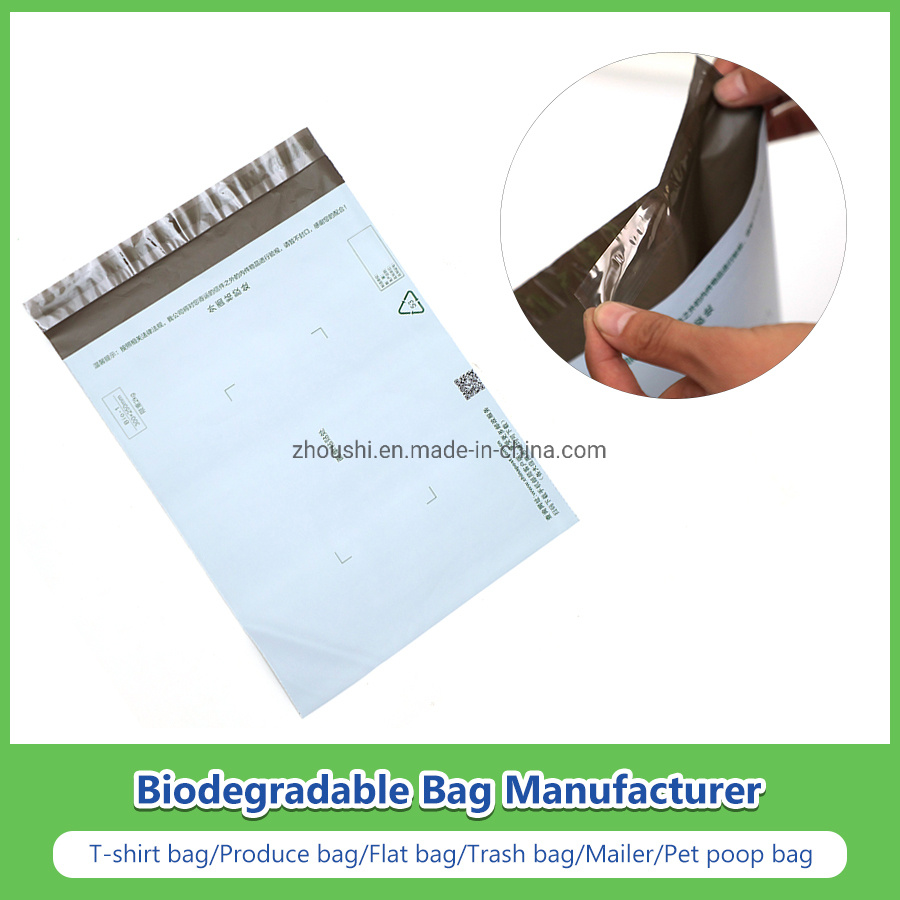塑料袋: (25, 129, 577, 716)
